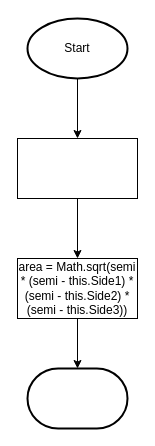
Image size: 155x446. Some labels were removed from this diagram. Each missing label, with the centre of its shape:
"return area" belongs at point 77,398.
"semi = this.semiPerimeter()" belongs at point 77,168.
